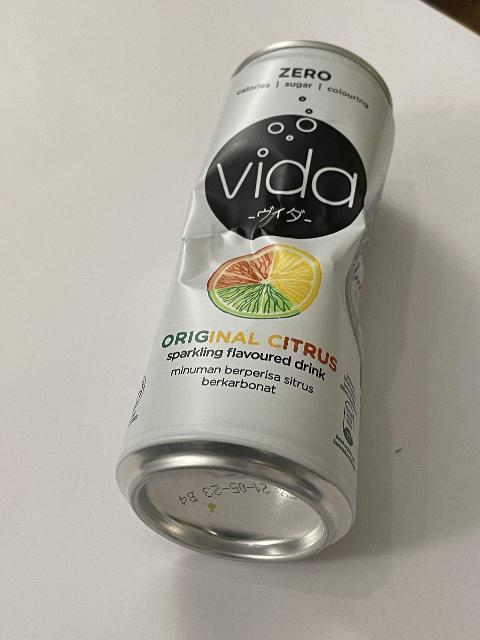drinkcan: (112, 38, 396, 566)
